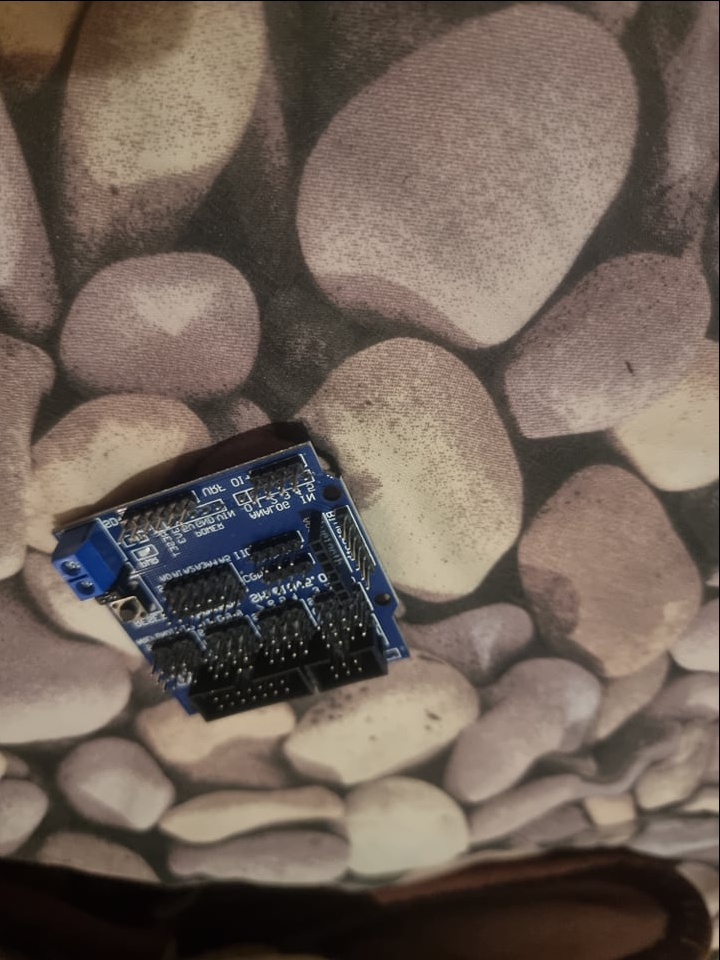5V EXPANSION: (50, 438, 414, 722)
